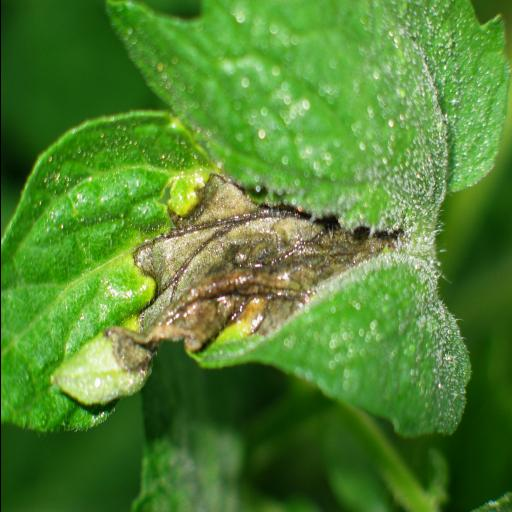disease_tomato: (12, 8, 494, 456)
